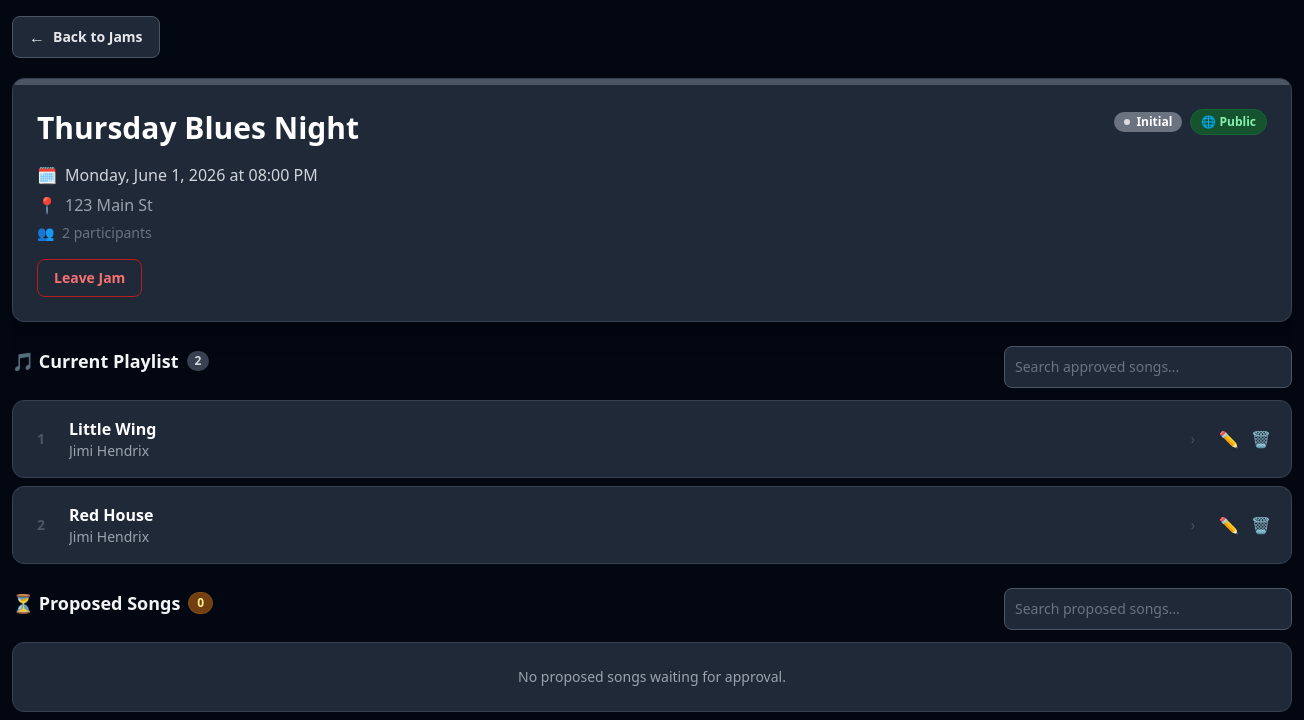
it: JamDetail › filters the current playlist with its search input
Type "red" into the search field named "search current playlist".
click(1148, 366); type("red")  # box [1004, 346, 1292, 388]
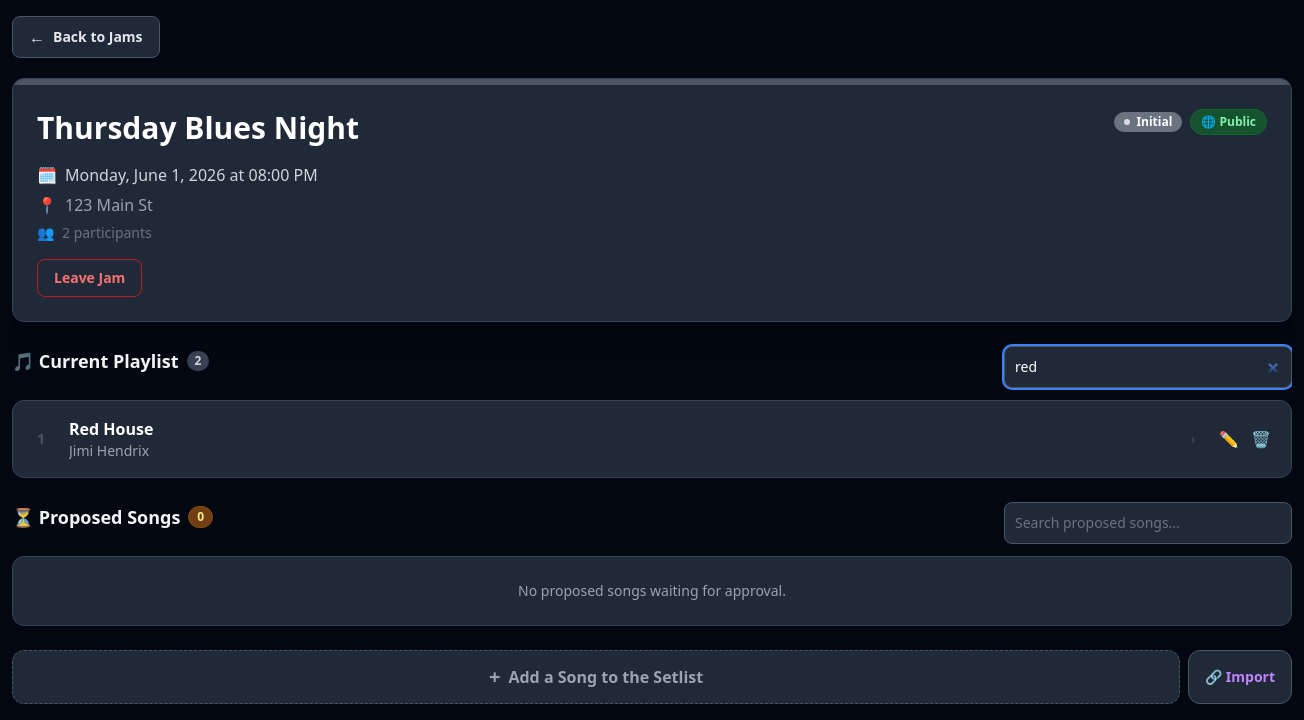
Expected: the heading "Red House" is shown, [69, 418, 153, 440]
Now the button "Little Wing" is gone
